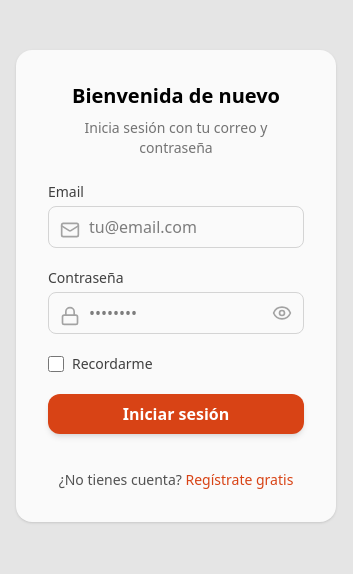
Test: LoginForm › debería mostrar errores de validación si los campos están vacíos
Click the button "Iniciar sesión": (176, 414) [48,394,304,434]
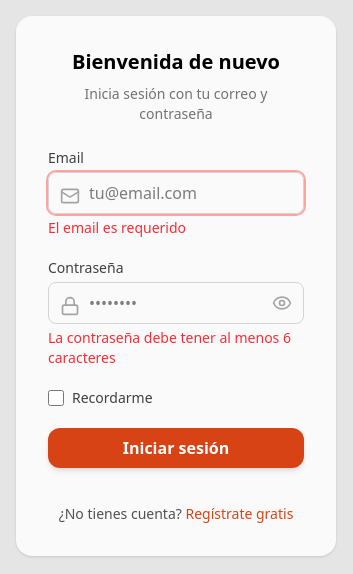
Check: the text "El email es requerido" is shown, box [48,218,186,237]
Check: the text "La contraseña debe tener al menos 6 caracteres" is shown, box [48,328,304,368]
